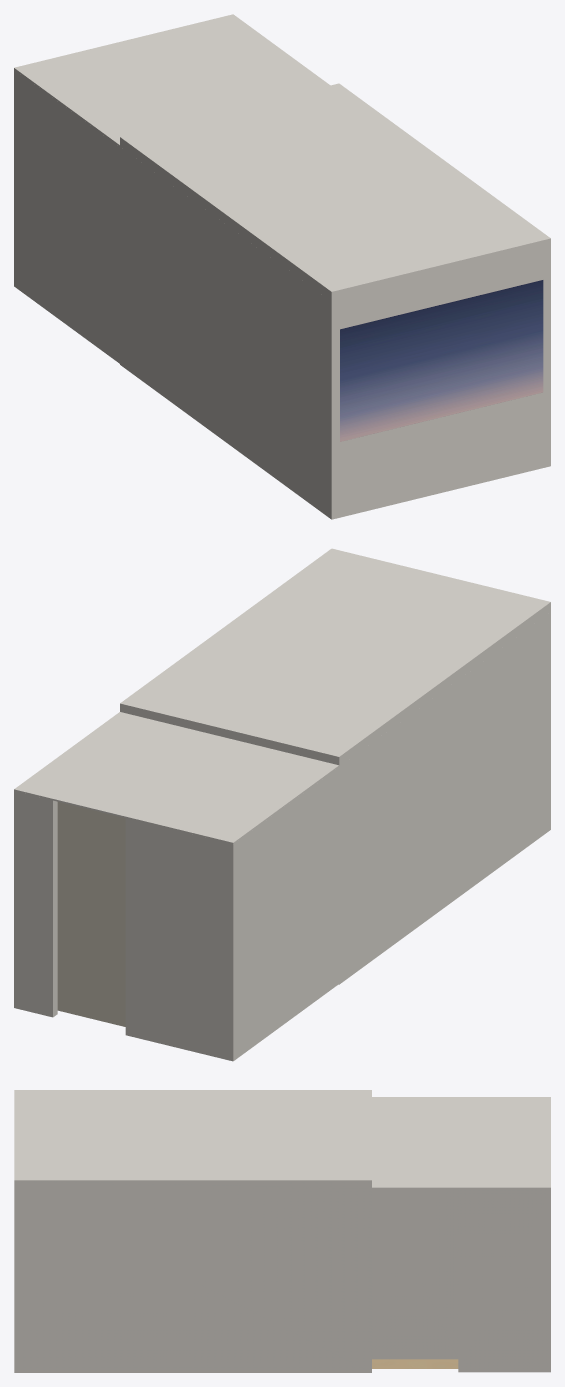
File: room.glb
3 views of the same model, one above another, from view 1: azimuth 30°, elevation 25°; view 2: azimuth 150°, elevation 25°; view 3: azimuth 270°, elevation 25° (orthographic). The views are drawn at different scales.
Visible parts, largest first — view 1: Architecture / Architecture_33, Ceiling — main room, Architecture / Architecture_34, Photoreal window sky, Architecture / Photoreal hall ceiling, Architecture / Photoreal bathroom ceiling; view 2: Architecture / Architecture_33, Ceiling — main room, Architecture / Architecture_13, Architecture / Photoreal hall far wall, Architecture / Photoreal hall ceiling, Architecture / Photoreal bathroom ceiling, Architecture / Architecture_0, Architecture / Architecture_1; view 3: Architecture / Architecture_35, Ceiling — main room, Architecture / Architecture_7, Architecture / Architecture_5, Architecture / Photoreal hall ceiling, Architecture / Photoreal bathroom ceiling, Architecture / Photoreal hall floor.
Part boxes in pixels (x1,y1,x2,y2): Architecture / Architecture_33: (14,69,331,519); Ceiling — main room: (120,83,550,301); Architecture / Architecture_34: (331,248,550,519); Photoreal window sky: (340,280,543,441); Architecture / Photoreal hall ceiling: (114,14,330,114); Architecture / Photoreal bathroom ceiling: (14,43,210,146); Architecture / Architecture_33: (233,612,550,1060); Ceiling — main room: (120,548,550,766); Architecture / Architecture_13: (125,818,233,1061); Architecture / Photoreal hall far wall: (57,802,125,1026); Architecture / Photoreal hall ceiling: (14,712,238,819); Architecture / Photoreal bathroom ceiling: (133,741,339,844); Architecture / Architecture_0: (14,791,52,1017); Architecture / Architecture_1: (53,800,57,1017); Architecture / Architecture_35: (14,1189,371,1372); Ceiling — main room: (14,1090,371,1188); Architecture / Architecture_7: (458,1189,550,1372); Architecture / Architecture_5: (372,1189,458,1359); Architecture / Photoreal hall ceiling: (372,1138,550,1188); Architecture / Photoreal bathroom ceiling: (372,1097,550,1138); Architecture / Photoreal hall floor: (372,1359,458,1368).
Bounding box in the file's own units: 2.75 × 2.73 × 6.91.
Materials: 288 (72 with a texture image).
